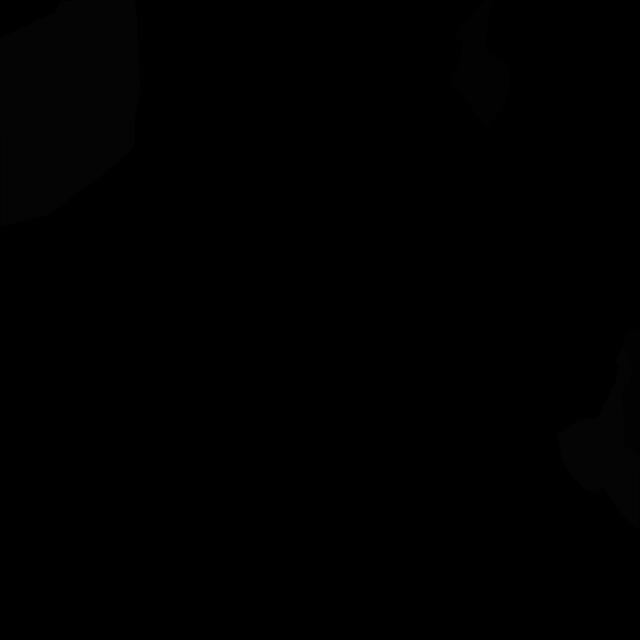cardboard: (450, 0, 510, 127), (622, 329, 640, 457)
soft_plastic: (0, 0, 140, 227), (557, 347, 640, 531)
